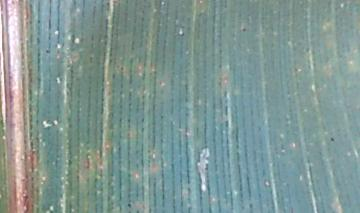tarspot: (327, 135, 337, 143), (124, 201, 134, 208), (242, 27, 247, 33)
